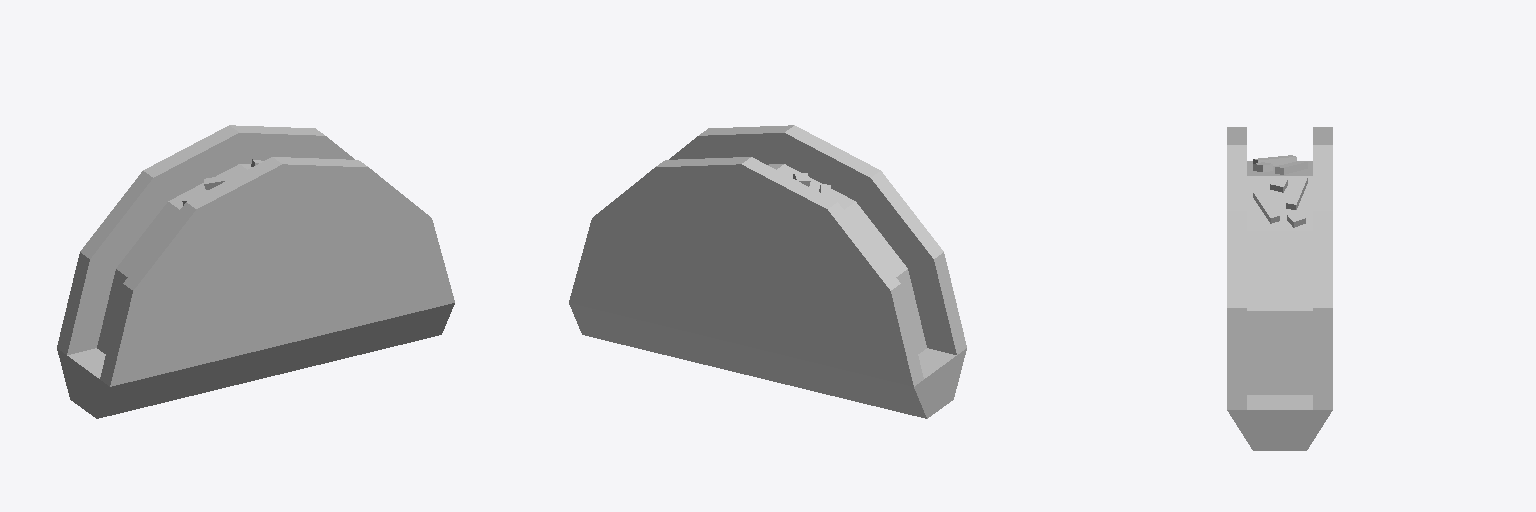
The model's file is taco.obj.
3 renders of one model, left to right at view 1: azimuth 30°, elevation 25°; view 2: azimuth 150°, elevation 25°; view 3: azimuth 270°, elevation 25°, orthographic.
Visible parts, largest first — view 1: taco; view 2: taco; view 3: taco.
Part boxes in pixels (x1,y1,x2,y2): taco: (57, 125, 454, 418); taco: (569, 125, 966, 418); taco: (1227, 127, 1332, 450).
Bounding box in the file's own units: 0.4256 × 0.2622 × 0.114.